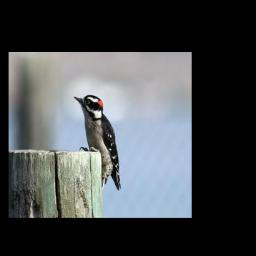Woodpecker: (73, 94, 122, 189)
